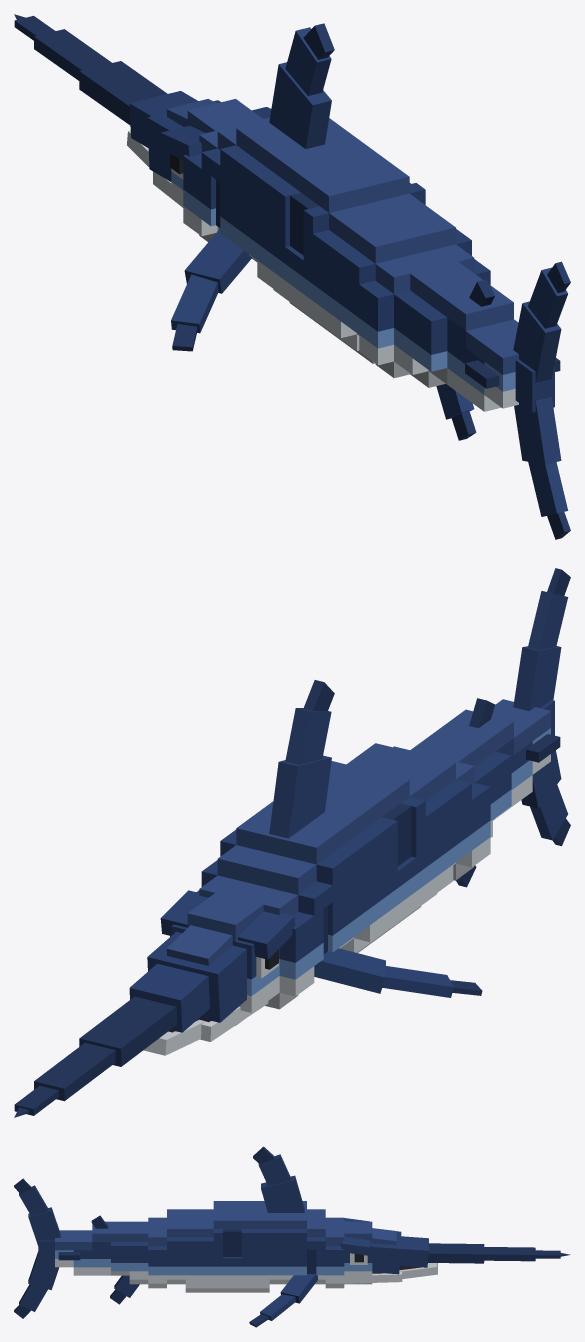
File: Swordfish.obj
The picture shows the model from 3 angles, top to bottom: view 1: azimuth 30°, elevation 25°; view 2: azimuth 150°, elevation 25°; view 3: azimuth 270°, elevation 25°; orthographic projection. The views are drawn at different scales.
Visible parts, largest first — view 1: S1, Head, S2, S4, Tail, S6, S5, S3; view 2: Head, S1, S2, Tail, S4, S6, S5, S3; view 3: Head, S1, S2, Tail, S4, S5, S6, S3.
Part boxes in pixels (x1,y1,x2,y2): S1: (171, 23, 353, 351); Head: (14, 14, 271, 241); S2: (257, 136, 425, 343); S4: (341, 214, 490, 378); Tail: (513, 261, 570, 539); S6: (447, 279, 560, 411); S5: (394, 262, 494, 440); S3: (313, 193, 436, 363); Head: (14, 875, 314, 1117); S1: (201, 680, 482, 997); S2: (323, 761, 425, 952); Tail: (513, 568, 570, 846); S4: (357, 743, 490, 880); S6: (447, 698, 560, 818); S5: (410, 723, 511, 887); S3: (346, 757, 453, 926); Head: (325, 1217, 570, 1288); S1: (249, 1146, 325, 1327); S2: (213, 1201, 269, 1292); Tail: (14, 1178, 60, 1318); S4: (148, 1209, 185, 1288); S5: (110, 1221, 148, 1304); S6: (55, 1215, 110, 1275); S3: (185, 1209, 213, 1292).
Size of the model in its own units: 7.72 by 8.08 by 23.88.
Materials: 1 (1 with a texture image).
